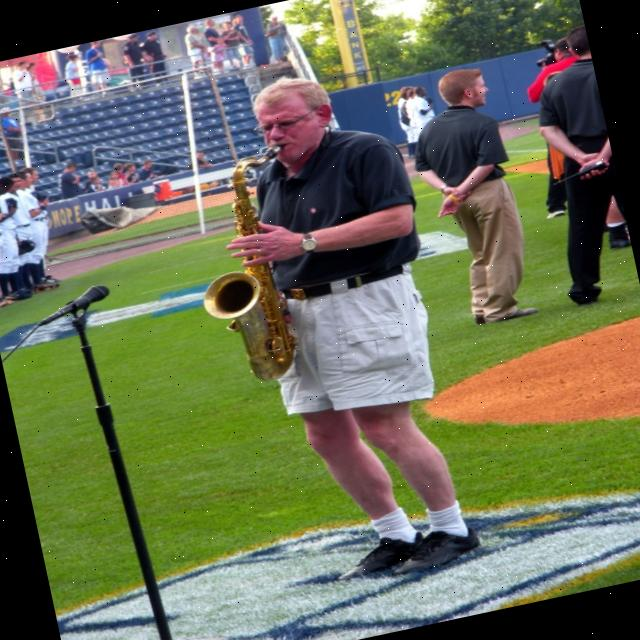saxophone: (168, 138, 334, 394)
